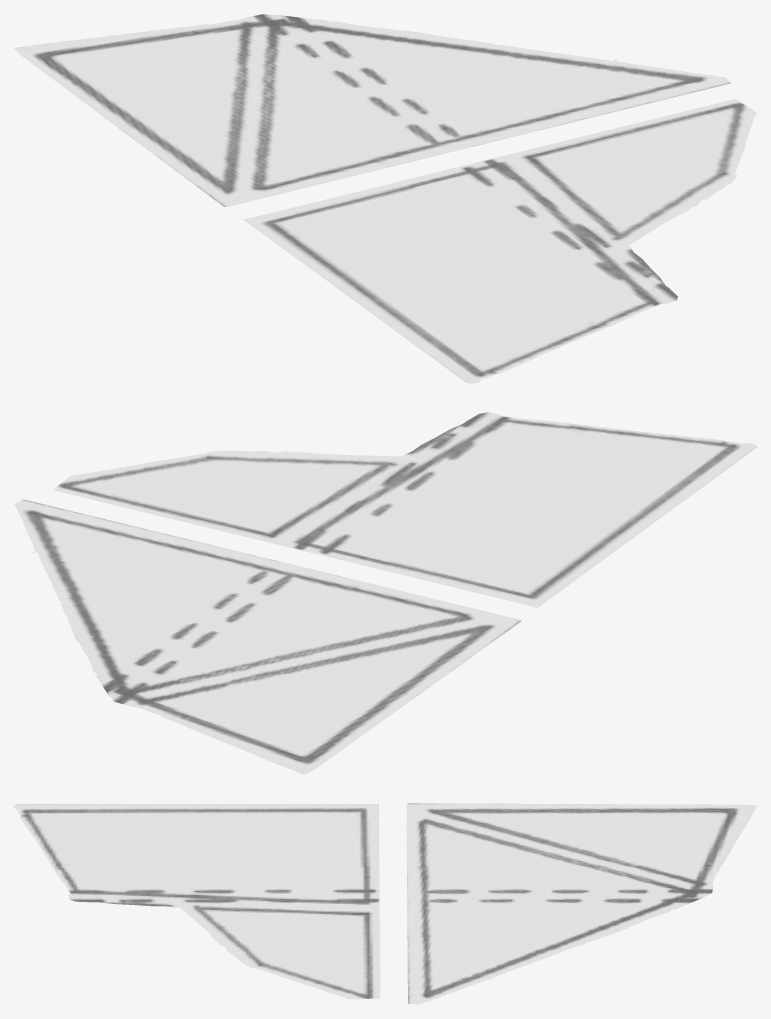
The model's file is smallcorner.fbx.
3 views of the same model, one above another, from view 1: azimuth 30°, elevation 25°; view 2: azimuth 150°, elevation 25°; view 3: azimuth 270°, elevation 25° (orthographic). The views are drawn at different scales.
Parts seen in each view (by area): view 1: path32, path34; view 2: path32, path34; view 3: path32, path34.
Part boxes in pixels (<box>): path32: <box>14,14,730,206</box>; path34: <box>244,99,756,383</box>; path32: <box>14,499,521,774</box>; path34: <box>54,412,756,607</box>; path32: <box>406,803,756,1004</box>; path34: <box>14,804,380,999</box>.
Size of the model in its own units: 4.91 by 1.2e-06 by 7.67.
Materials: 2 (2 with a texture image).
